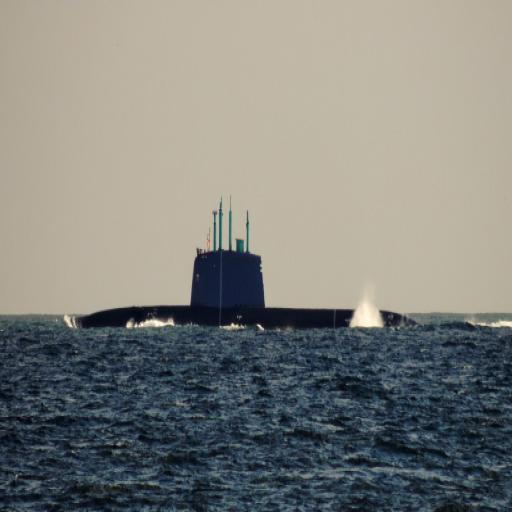submarine: (72, 195, 435, 332)
